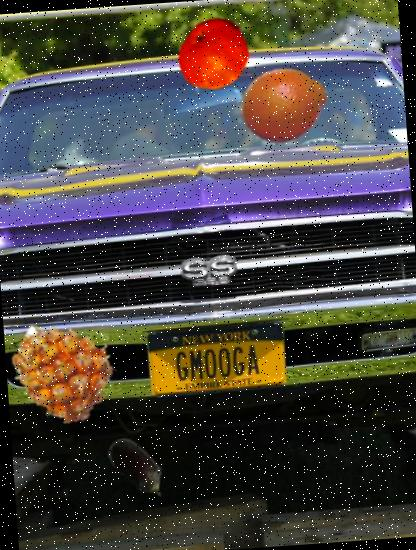Clementine: (173, 11, 257, 96)
Eggplant: (100, 428, 178, 507)
Pineapple: (6, 315, 117, 426)
Tangelo: (238, 57, 332, 151)
